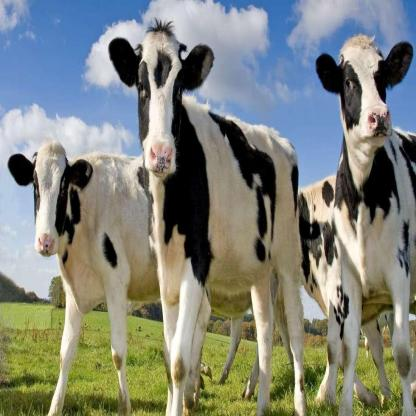cow: (107, 25, 308, 416), (7, 138, 162, 416), (316, 33, 416, 416), (298, 172, 390, 416)
